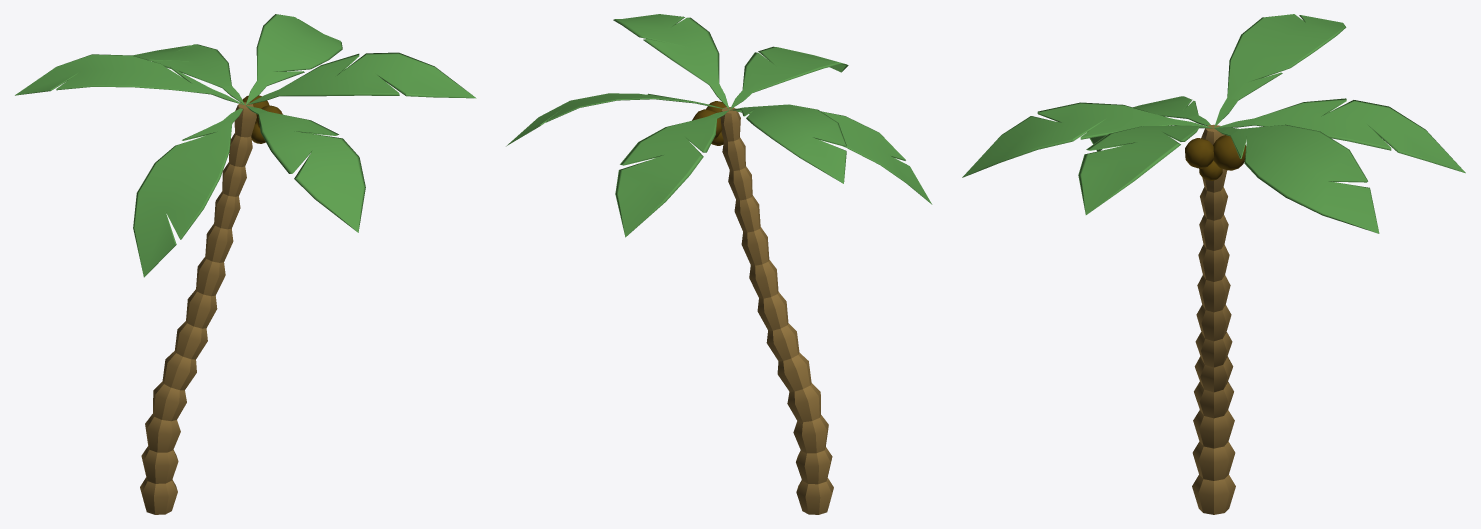
Rendered from Palm_Tree_2.fbx.
The picture shows the model from 3 angles, left to right: view 1: azimuth 30°, elevation 25°; view 2: azimuth 150°, elevation 25°; view 3: azimuth 270°, elevation 25°; orthographic projection. The views are drawn at different scales.
Visible parts, largest first — view 1: Palm_Tree_2; view 2: Palm_Tree_2; view 3: Palm_Tree_2.
Boxes of the visible parts, x1,y1,x2,y2 form: Palm_Tree_2: [15, 14, 476, 514]; Palm_Tree_2: [506, 14, 932, 514]; Palm_Tree_2: [962, 14, 1465, 514].
Size of the model in its own units: 156 by 181 by 176.
